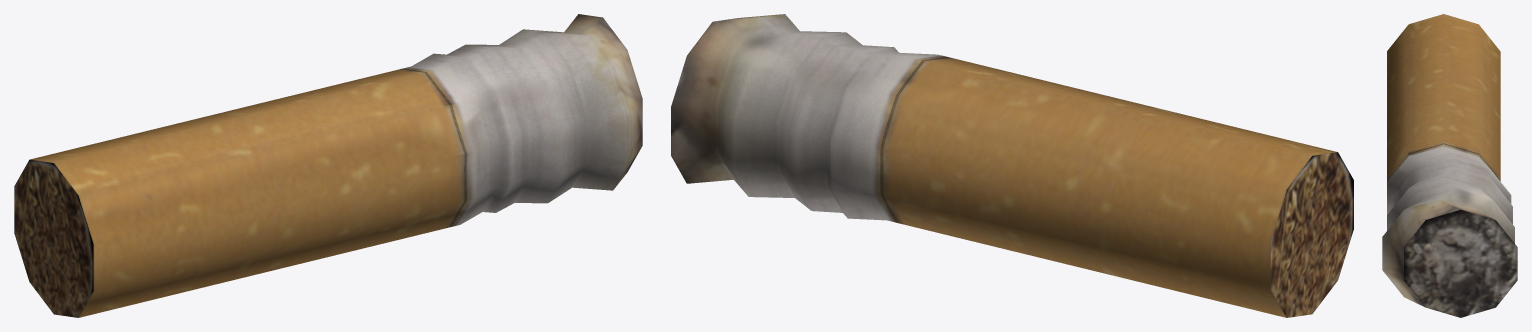
File: cigarette_01.fbx
The picture shows the model from 3 angles, left to right: view 1: azimuth 30°, elevation 25°; view 2: azimuth 150°, elevation 25°; view 3: azimuth 270°, elevation 25°; orthographic projection. The views are drawn at different scales.
Visible parts, largest first — view 1: cigarette_01; view 2: cigarette_01; view 3: cigarette_01.
Part boxes in pixels (bbox=[...]): cigarette_01: bbox=[14, 14, 642, 317]; cigarette_01: bbox=[671, 14, 1353, 317]; cigarette_01: bbox=[1382, 14, 1517, 317].
Size of the model in its own units: 15.72 by 4.05 by 4.59.
